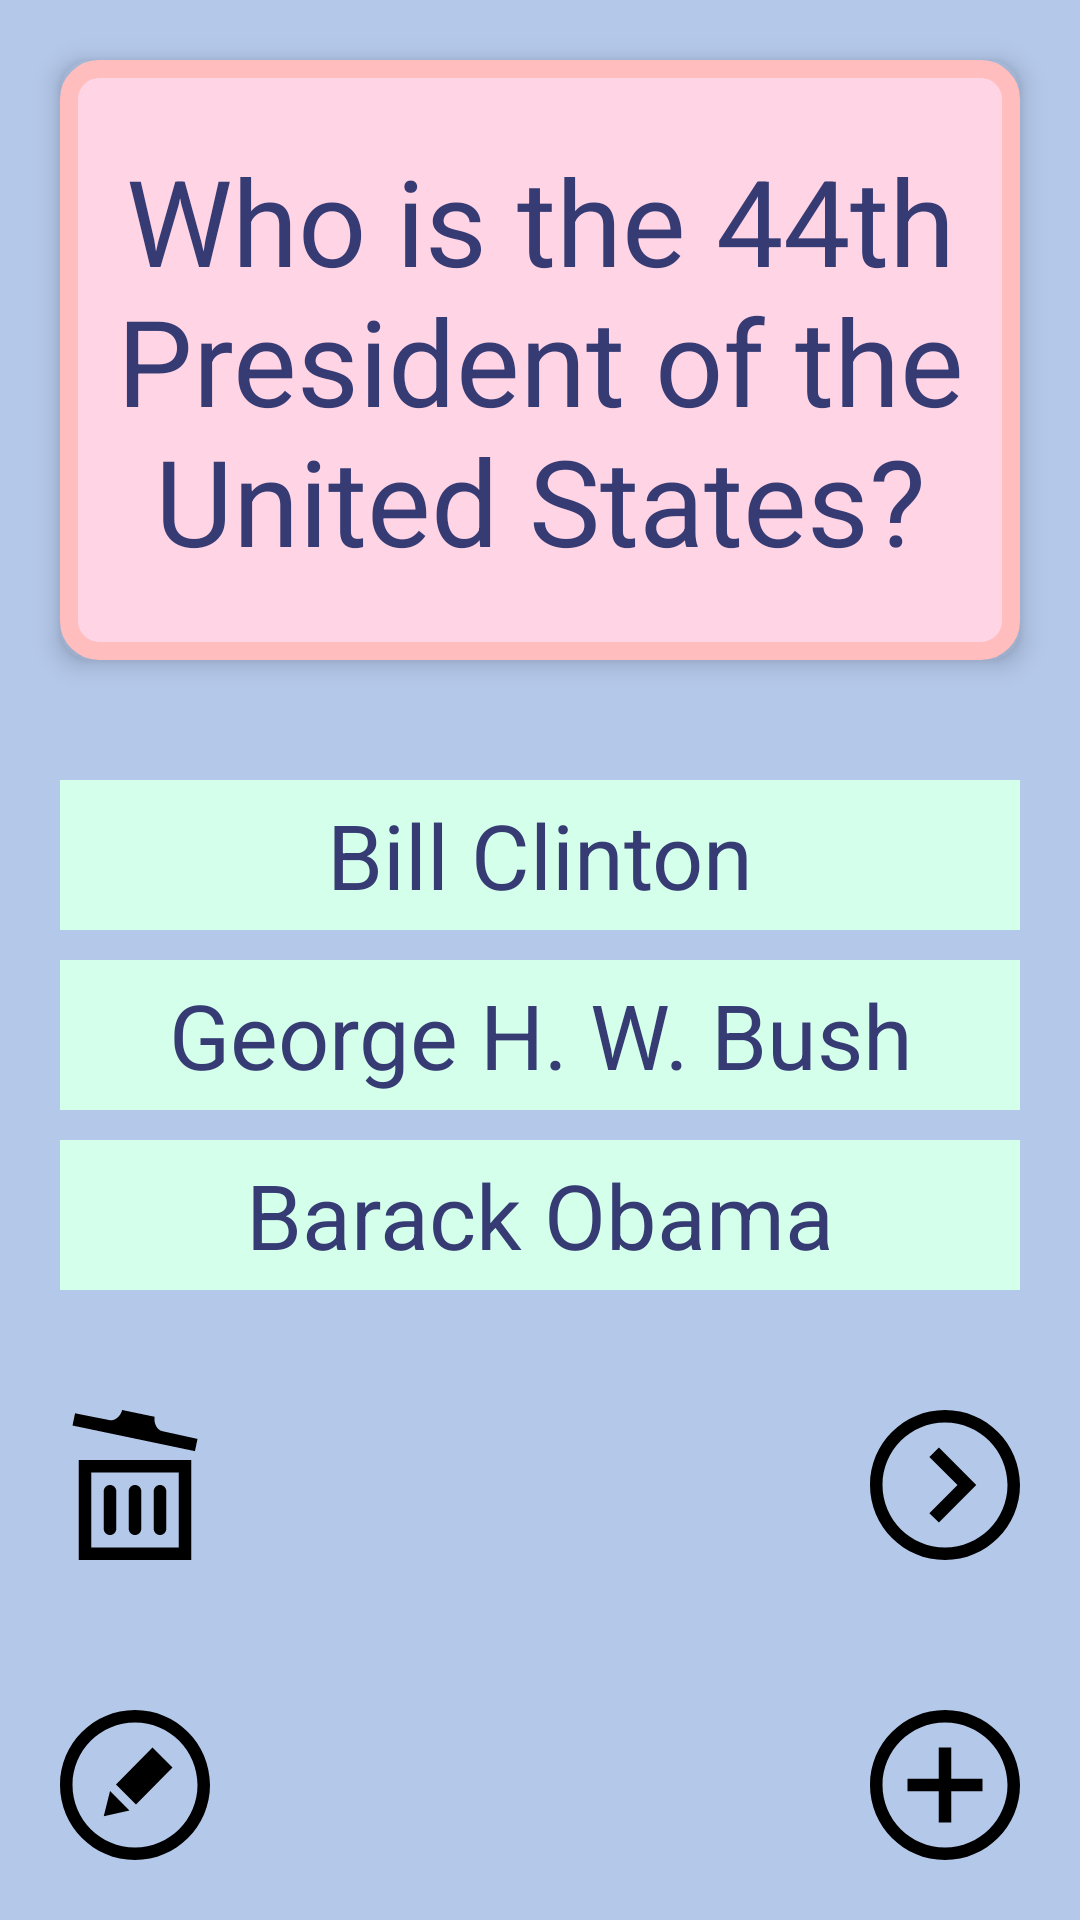

Screen size 1080px×1920px. Icon name, then its box in pixels as box(x1, y1, x2, y2):
add: box(870, 1710, 1020, 1860)
delete: box(72, 1410, 198, 1560)
edit: box(60, 1710, 210, 1860)
next: box(870, 1410, 1020, 1560)
